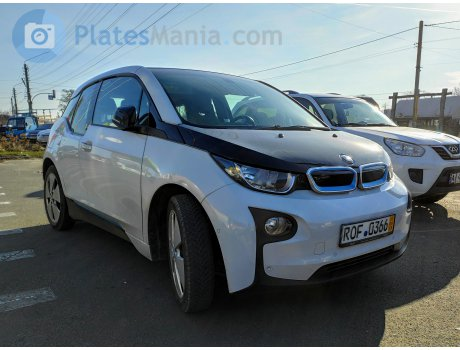License Plates: (343, 215, 392, 241)
